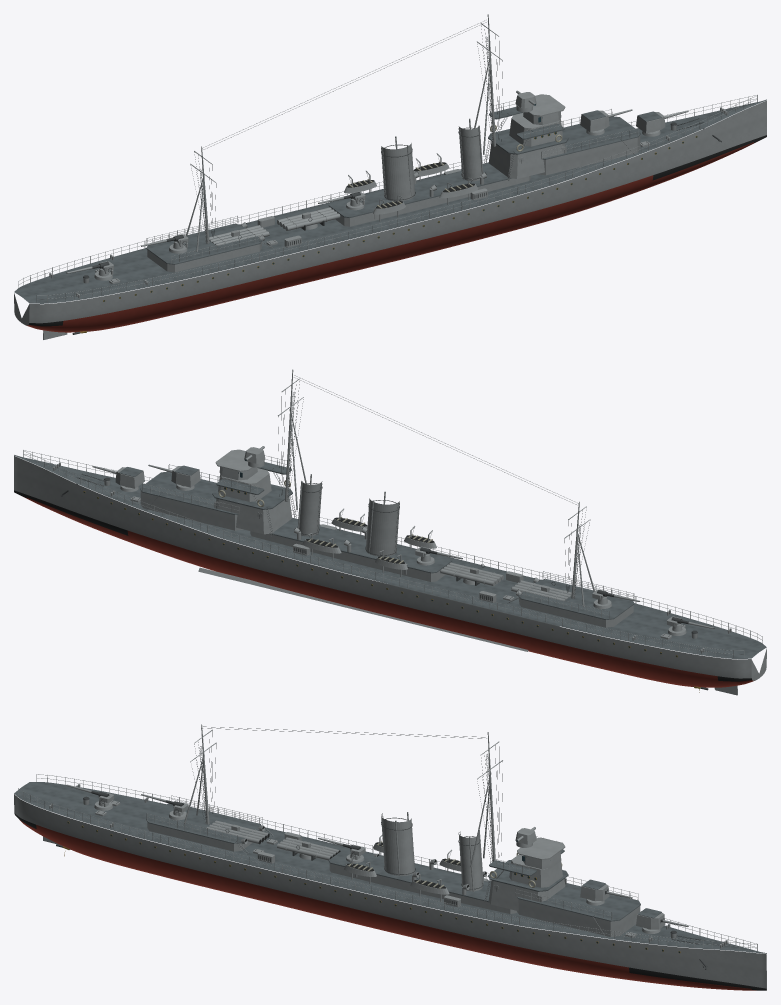
File: farragut_dd34.glb
3 renders of one model, top to bottom at view 1: azimuth 30°, elevation 25°; view 2: azimuth 150°, elevation 25°; view 3: azimuth 330°, elevation 25°, orthographic.
Parts seen in each view (by area): view 1: Farragut class, original five-gun fit; view 2: Farragut class, original five-gun fit; view 3: Farragut class, original five-gun fit.
Part boxes in pixels (x1,y1,x2,y2): Farragut class, original five-gun fit: (14,14,766,339); Farragut class, original five-gun fit: (14,369,766,695); Farragut class, original five-gun fit: (14,724,766,990).
Size of the model in its own units: 104 by 29.13 by 10.56.
Materials: 8 (7 with a texture image).
